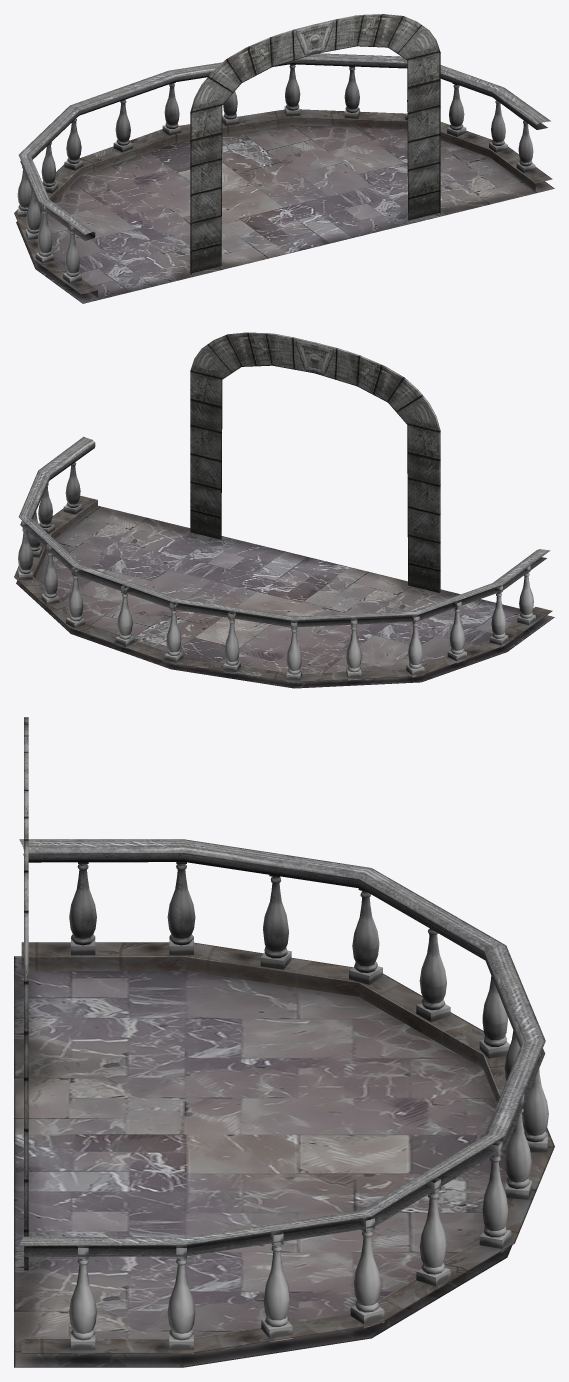
The model's file is balcony.fbx.
The picture shows the model from 3 angles, top to bottom: view 1: azimuth 30°, elevation 25°; view 2: azimuth 150°, elevation 25°; view 3: azimuth 270°, elevation 25°; orthographic projection. The views are drawn at different scales.
Parts seen in each view (by area): view 1: polySurface1847; view 2: polySurface1847; view 3: polySurface1847.
Part boxes in pixels (x1=…): polySurface1847: x1=14, y1=14, x2=554, y2=303; polySurface1847: x1=14, y1=332, x2=554, y2=688; polySurface1847: x1=14, y1=717, x2=554, y2=1367.
Size of the model in its own units: 754 by 335 by 419.
